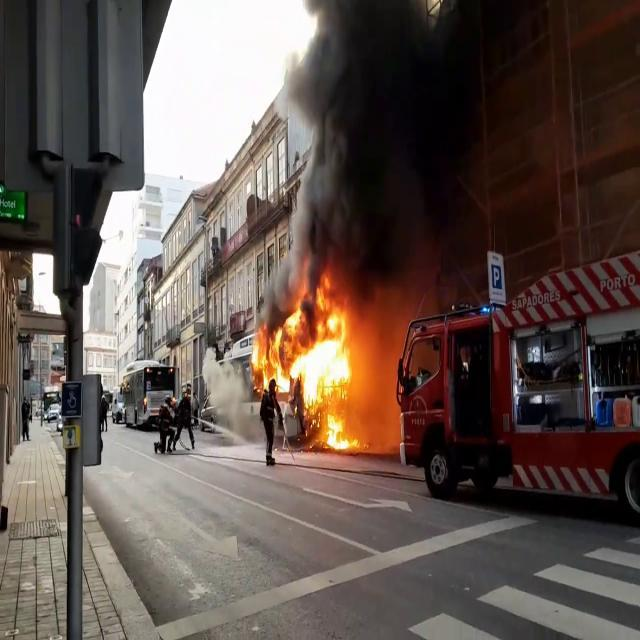Fire: (251, 276, 365, 450)
Smoke: (277, 0, 475, 288)
